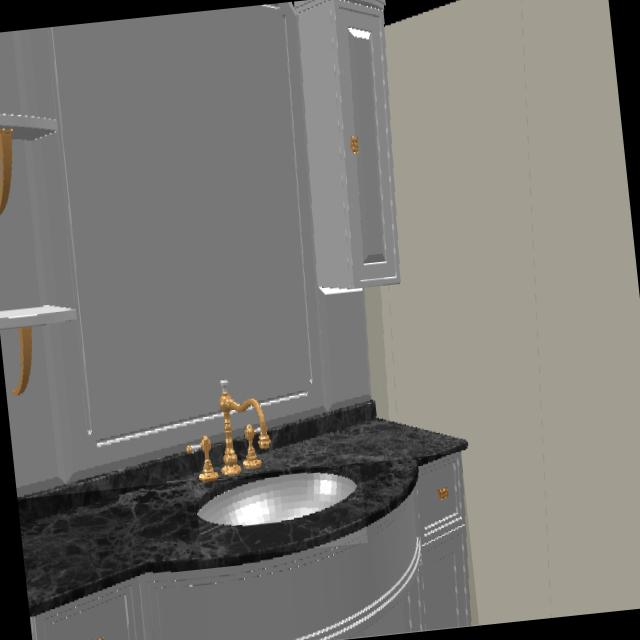cabinet: (30, 453, 472, 640)
washbasin: (197, 473, 362, 551)
